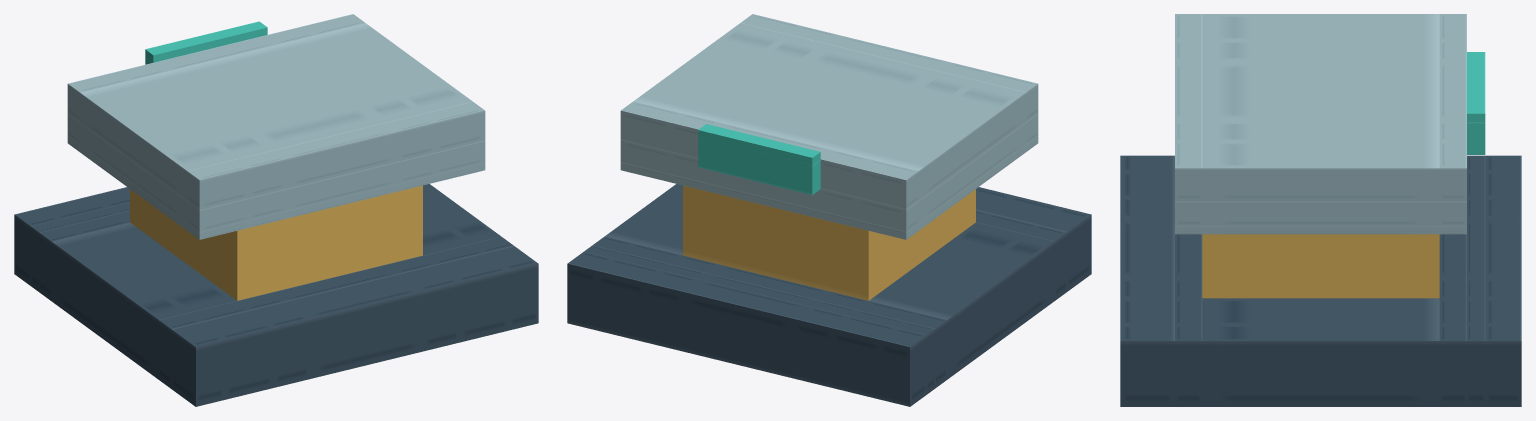
The model's file is sc_mount_mechanical_arm.obj.
3 renders of one model, left to right at view 1: azimuth 30°, elevation 25°; view 2: azimuth 150°, elevation 25°; view 3: azimuth 270°, elevation 25°, orthographic. The views are drawn at different scales.
Bounding box in the file's own units: 4.8 × 2.8 × 4.4.
Materials: 1 (1 with a texture image).
